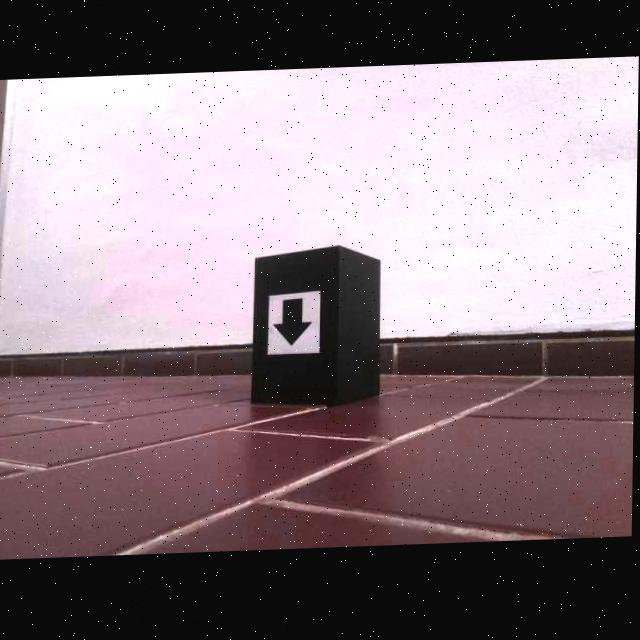DOWN: (273, 300, 314, 349)
